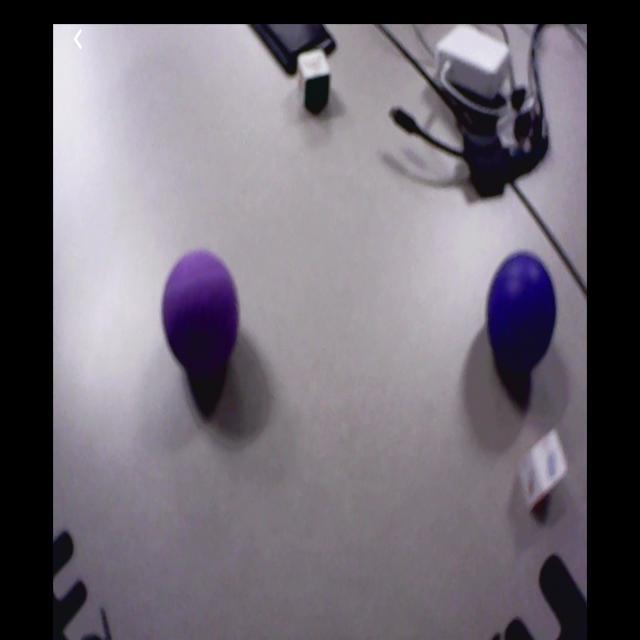ball: (163, 251, 240, 366), (489, 257, 556, 367)
